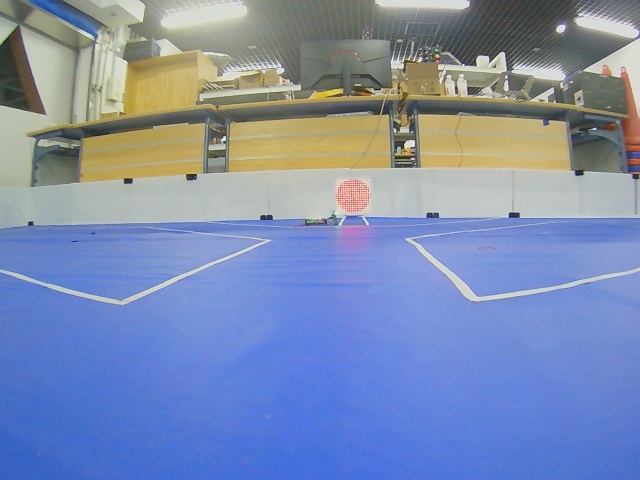red: (336, 178, 371, 215)
